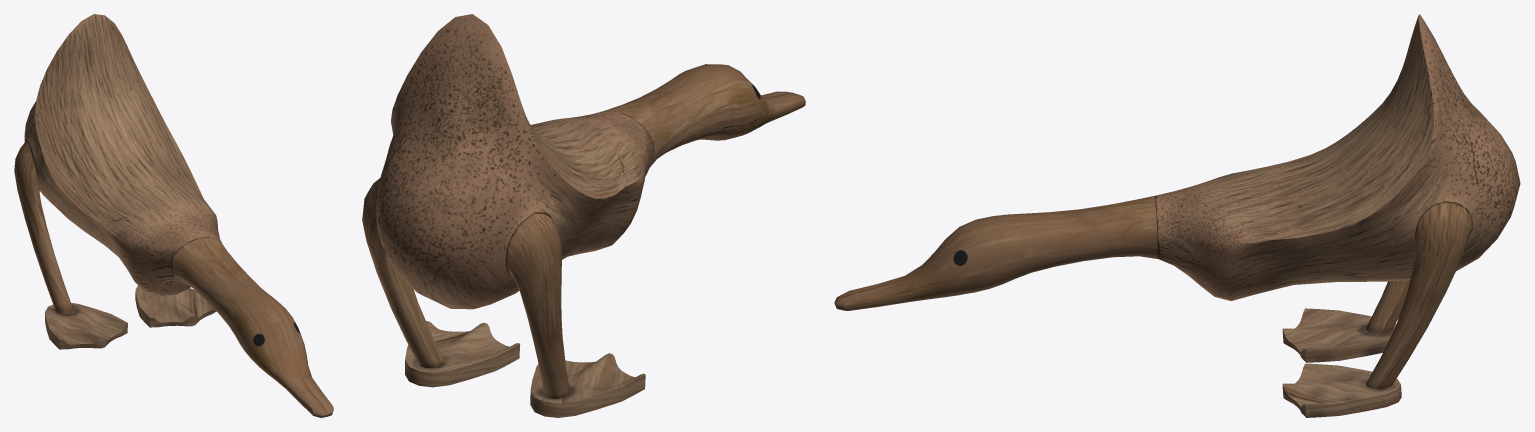
File: goose.fbx
The picture shows the model from 3 angles, left to right: view 1: azimuth 30°, elevation 25°; view 2: azimuth 150°, elevation 25°; view 3: azimuth 270°, elevation 25°; orthographic projection. The views are drawn at different scales.
Visible parts, largest first — view 1: goose; view 2: goose; view 3: goose.
Boxes of the visible parts, bbox=[...] form: goose: bbox=[14, 14, 333, 417]; goose: bbox=[362, 14, 805, 417]; goose: bbox=[834, 14, 1520, 417].
Size of the model in its own units: 17.26 by 29.43 by 51.66.
